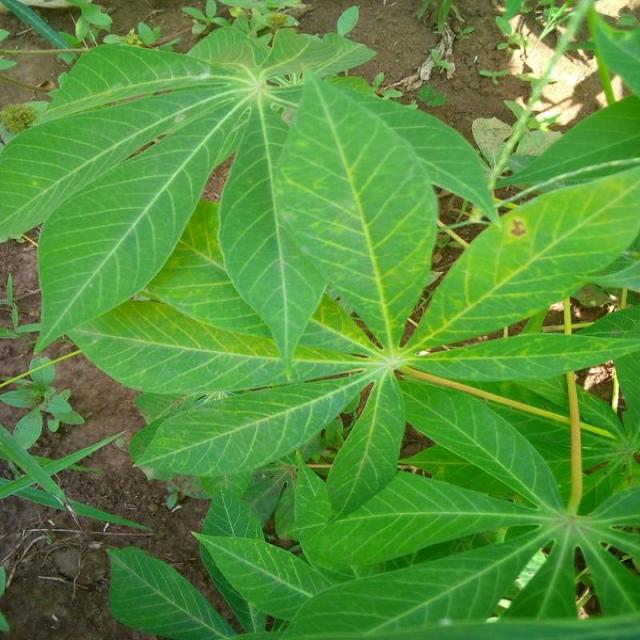cassava leaf: (0, 8, 638, 637)
